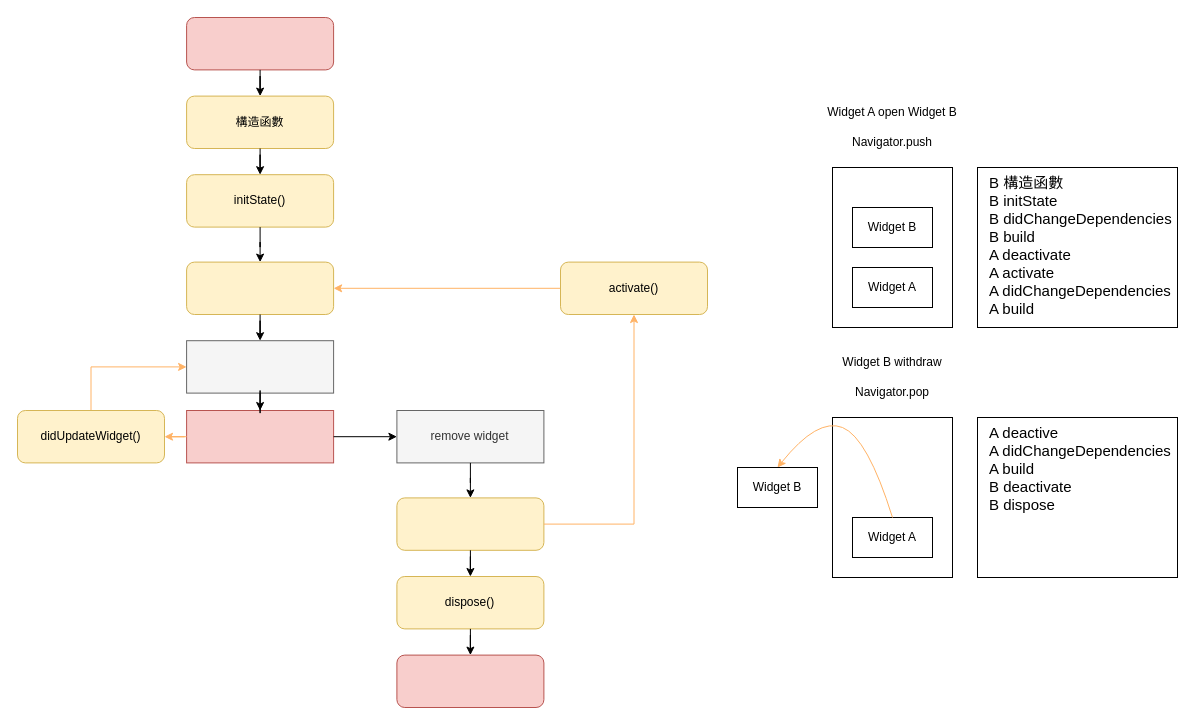
The diagram is 1195 pixels wide and 725 high, and some of its shapes have lost their labels. Here are the shapes that lost their labels. From the top down, the centre of each, then its label:
(x=260, y=43): Start
(x=260, y=287): didChangeDependencies()
(x=260, y=366): build
(x=260, y=436): tree
(x=470, y=523): deactivate()
(x=470, y=681): End
